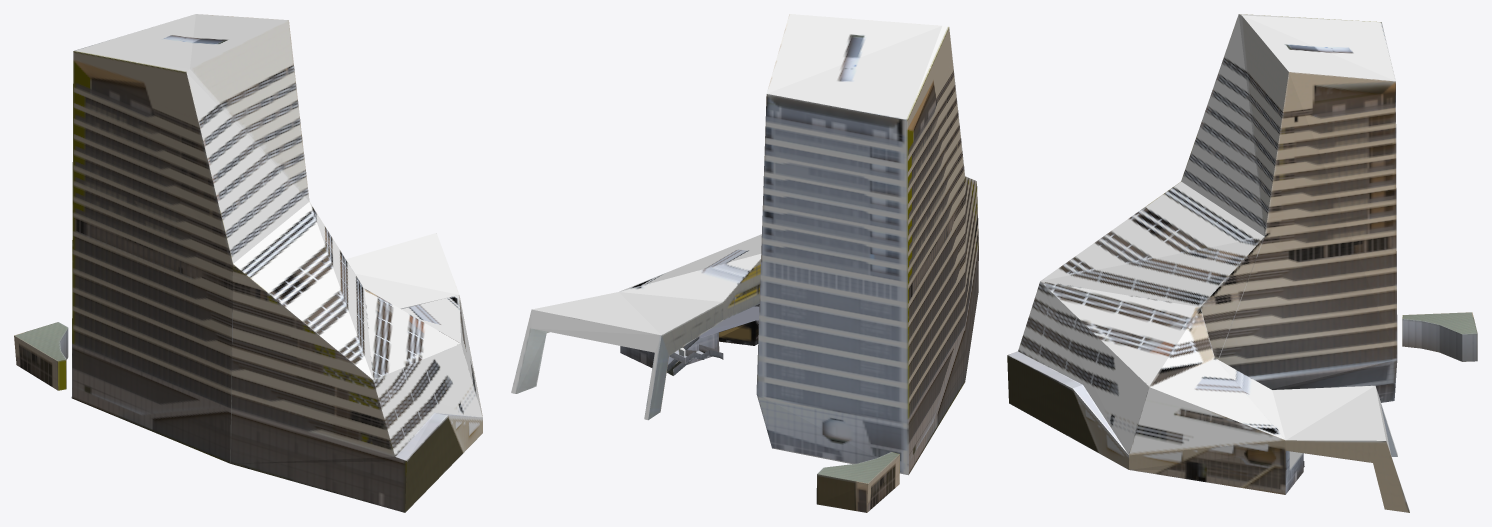
The picture shows the model from 3 angles, left to right: view 1: azimuth 30°, elevation 25°; view 2: azimuth 150°, elevation 25°; view 3: azimuth 270°, elevation 25°; orthographic projection. The views are drawn at different scales.
Visible parts, largest first — view 1: Plane.002; view 2: Plane.002; view 3: Plane.002.
Part boxes in pixels (box(x1,y1,x2,y2)): Plane.002: box(14, 14, 482, 512); Plane.002: box(511, 14, 978, 512); Plane.002: box(1007, 14, 1477, 512).
Size of the model in its own units: 89.25 by 83.73 by 102.
Materials: 1 (1 with a texture image).
